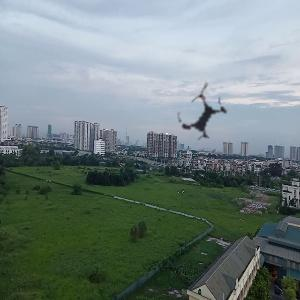drone: (156, 68, 250, 162)
